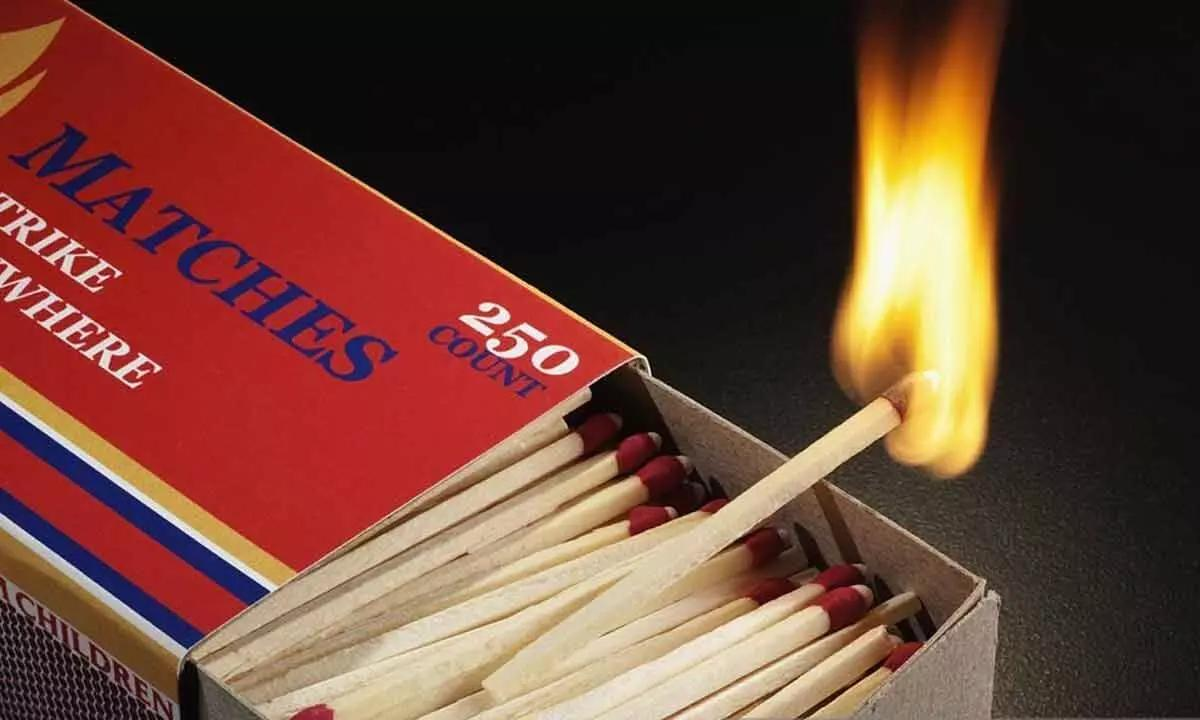controlled_fire: (721, 0, 1076, 536)
